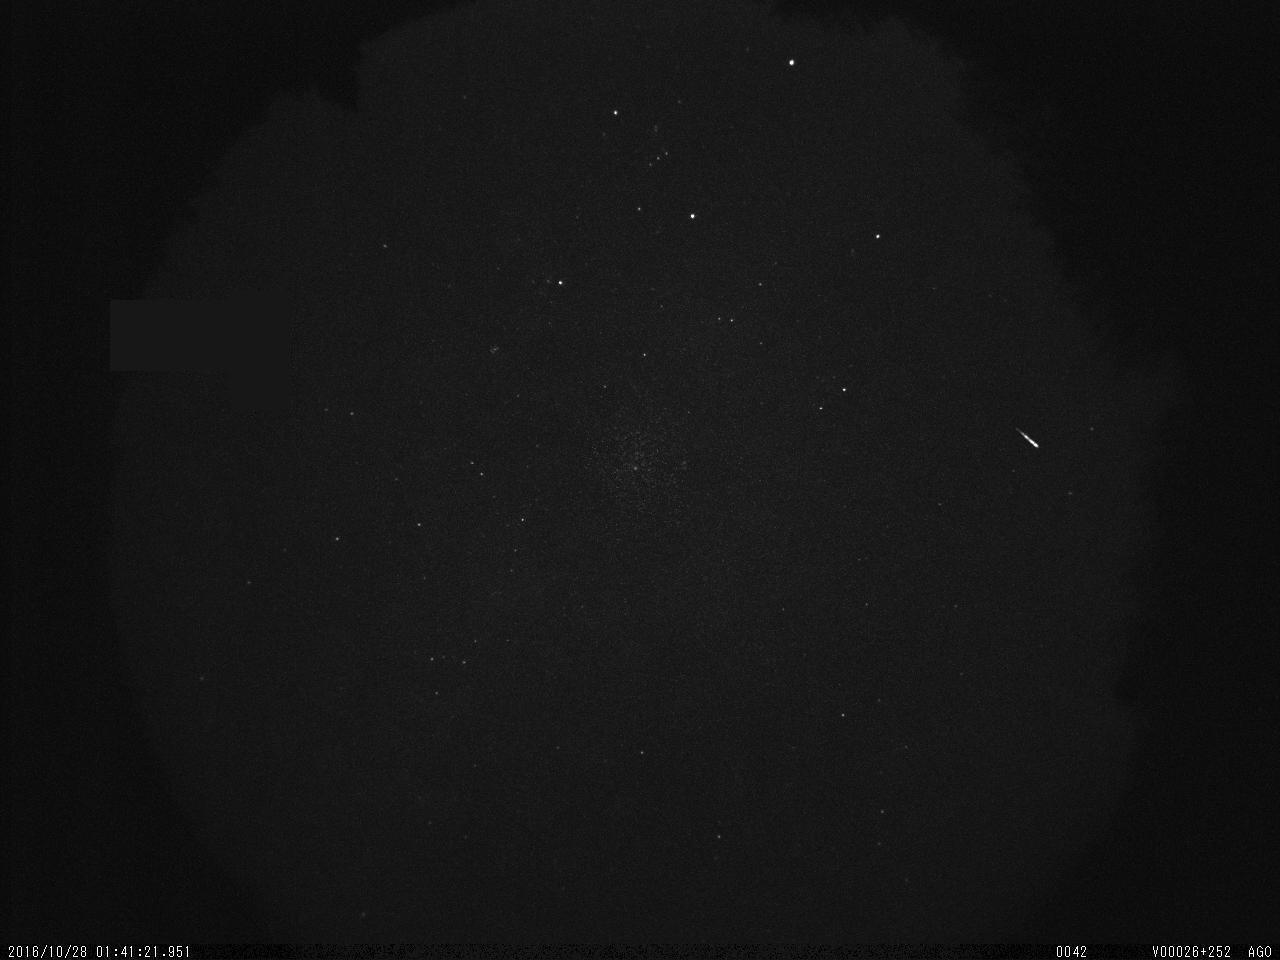Meteor: (1012, 422, 1042, 454)
